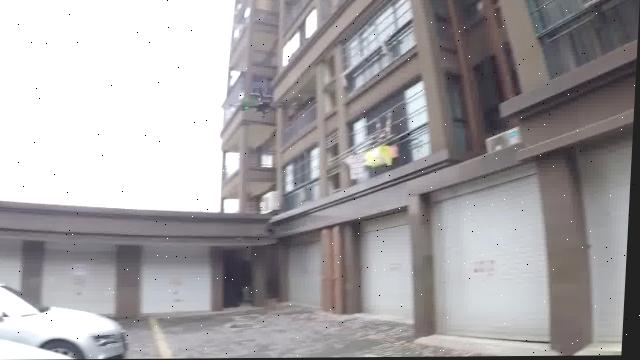drone: (232, 89, 278, 120)
